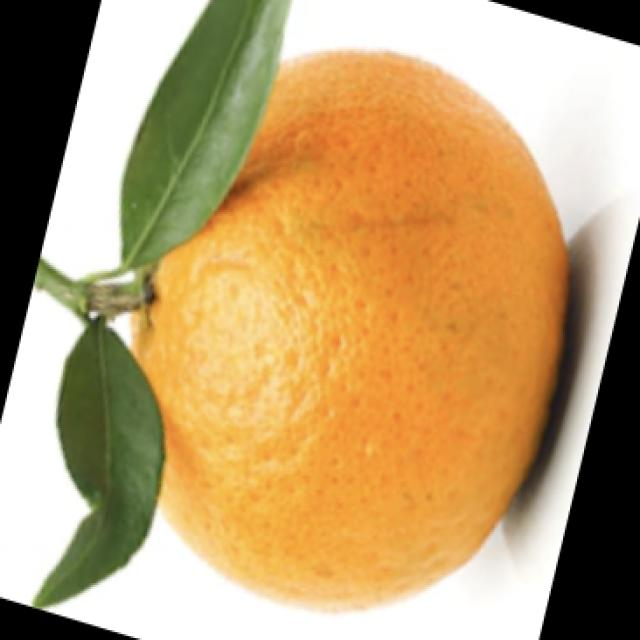fresh: (0, 36, 580, 613)
